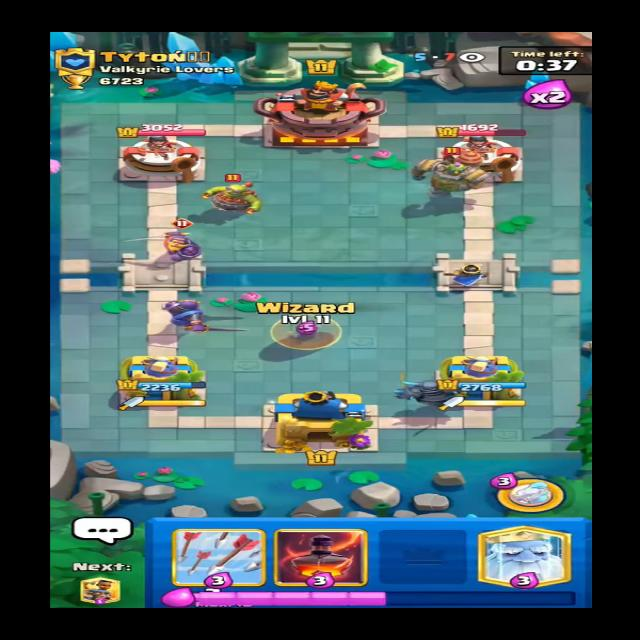EvoKnight: (140, 217, 212, 260)
Goblindemolisher: (202, 173, 266, 213)
Goblinmachine: (410, 149, 502, 198)
